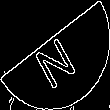N_NW: (29, 23, 81, 87)
